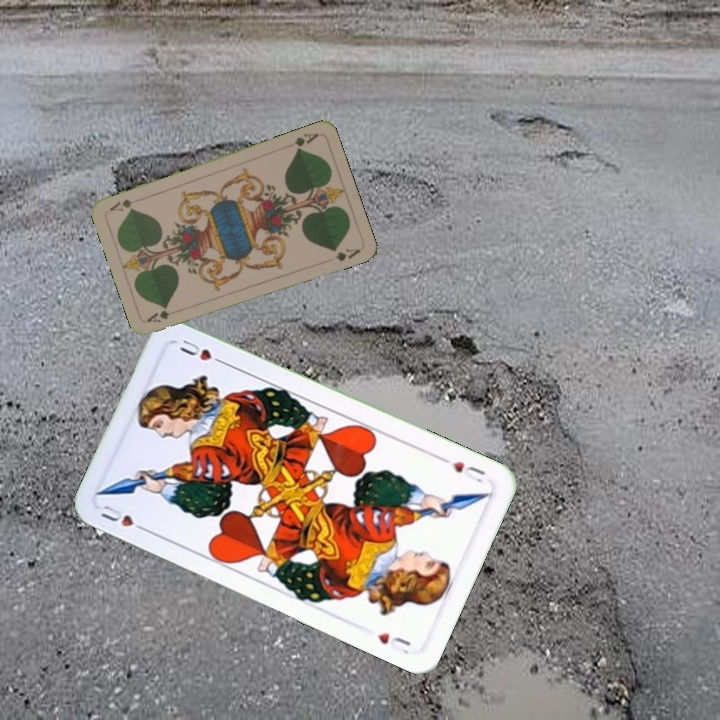GA: (282, 129, 321, 153), (143, 305, 183, 325)
HU: (96, 499, 151, 535), (437, 453, 488, 486)
